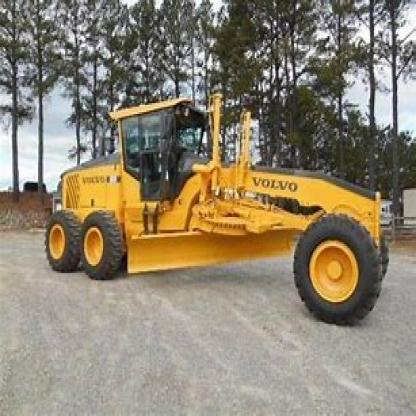bull_dozer/loader/grader: (36, 90, 392, 322)
